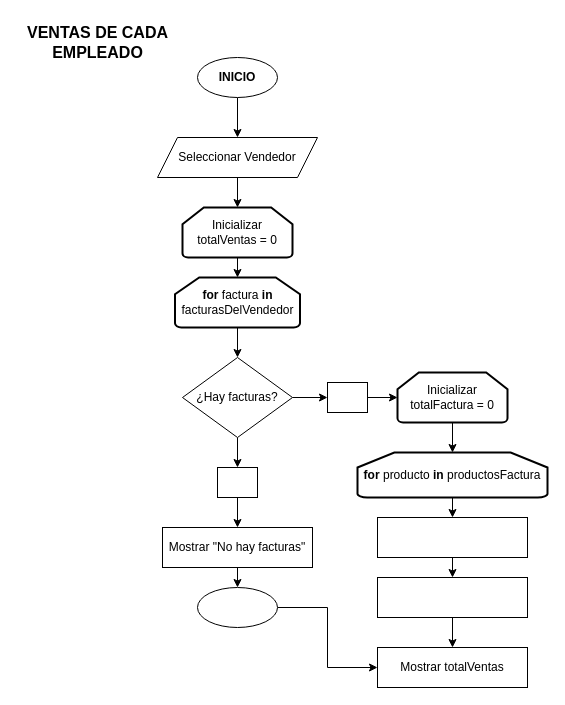
The diagram is 565 pixels wide and 705 high, and some of its shapes have lost their labels. The centre of each missing label's shape, as x and y in pixels:
FIN: the point at 237,607
No: the point at 237,482
Sumar precio del producto a totalFactura: the point at 452,537
Sumar totalFacturas a totalVentas: the point at 452,597
Sí: the point at 347,397
